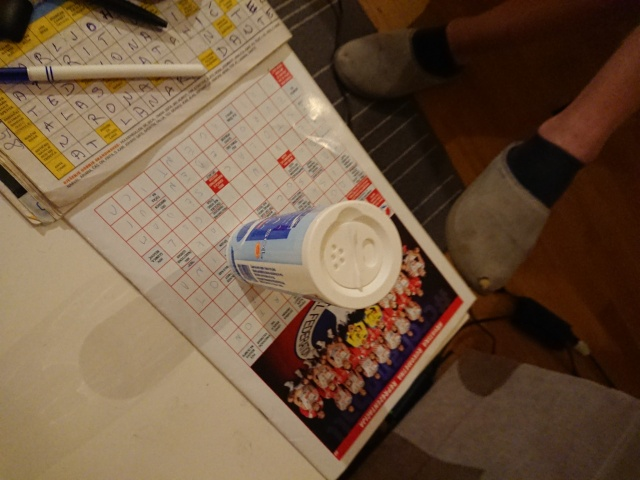Solana Pag Fine Sea Salt 250g: (223, 197, 406, 312)
